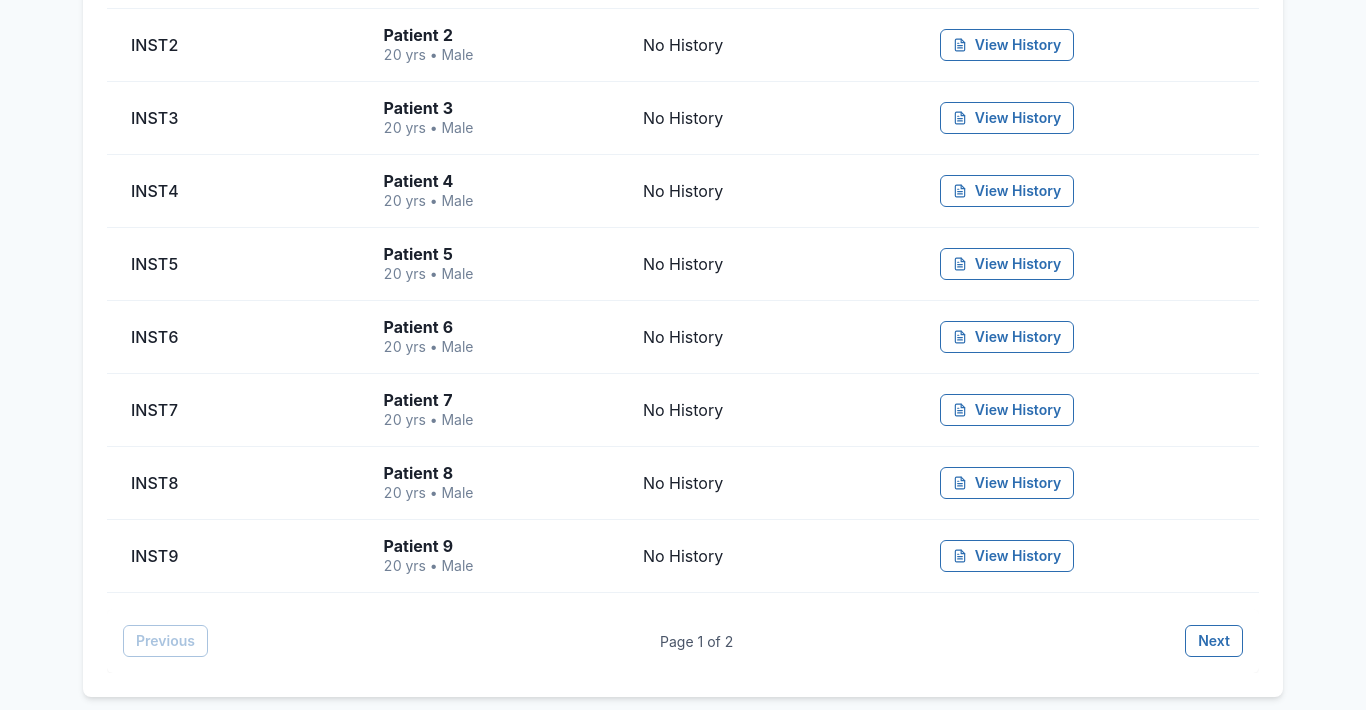
Scenario: AllPatients Component › handles pagination
(page scrolled)
Expected: the text "Patient 14" is not shown
Click the button "Next": [1214, 641] box [1185,625,1243,657]
(page scrolled)
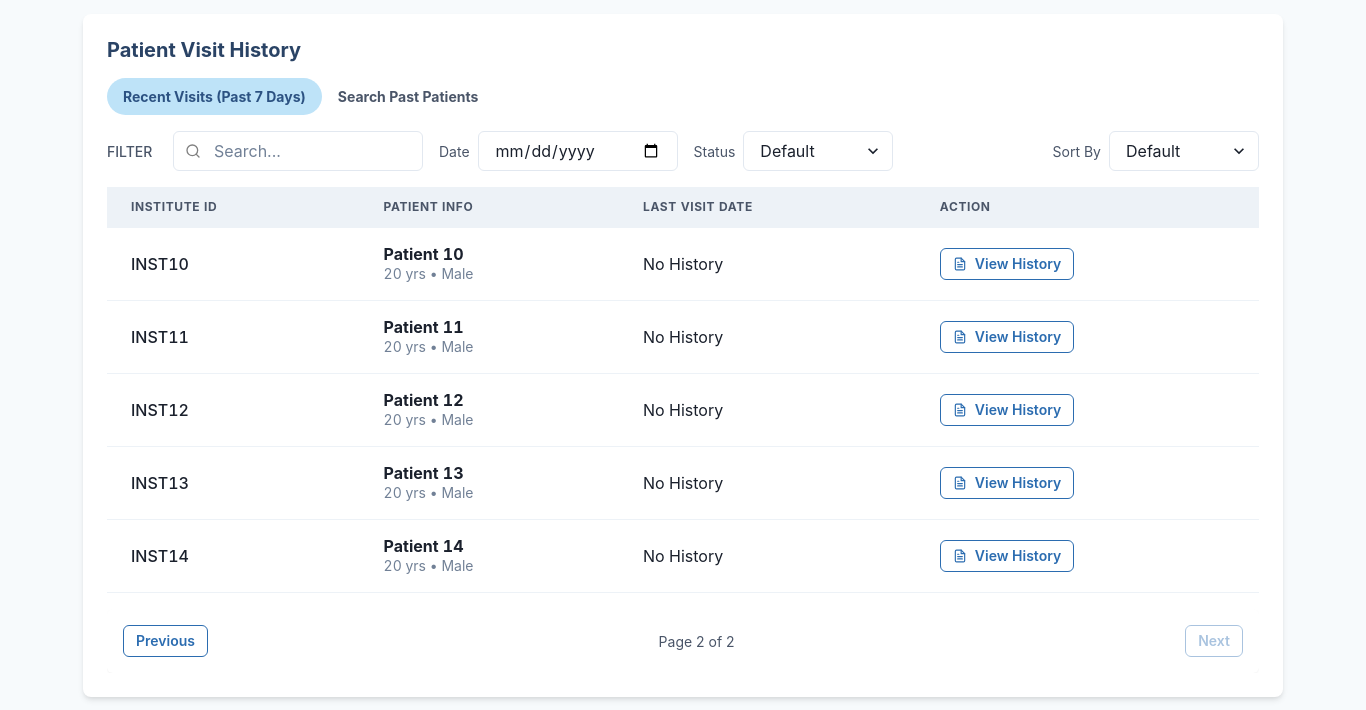
Expected: the text "Patient 14" is shown, [384,536,464,556]
Click the button "Previous": [166, 641] box [123,625,208,657]
(page scrolled)
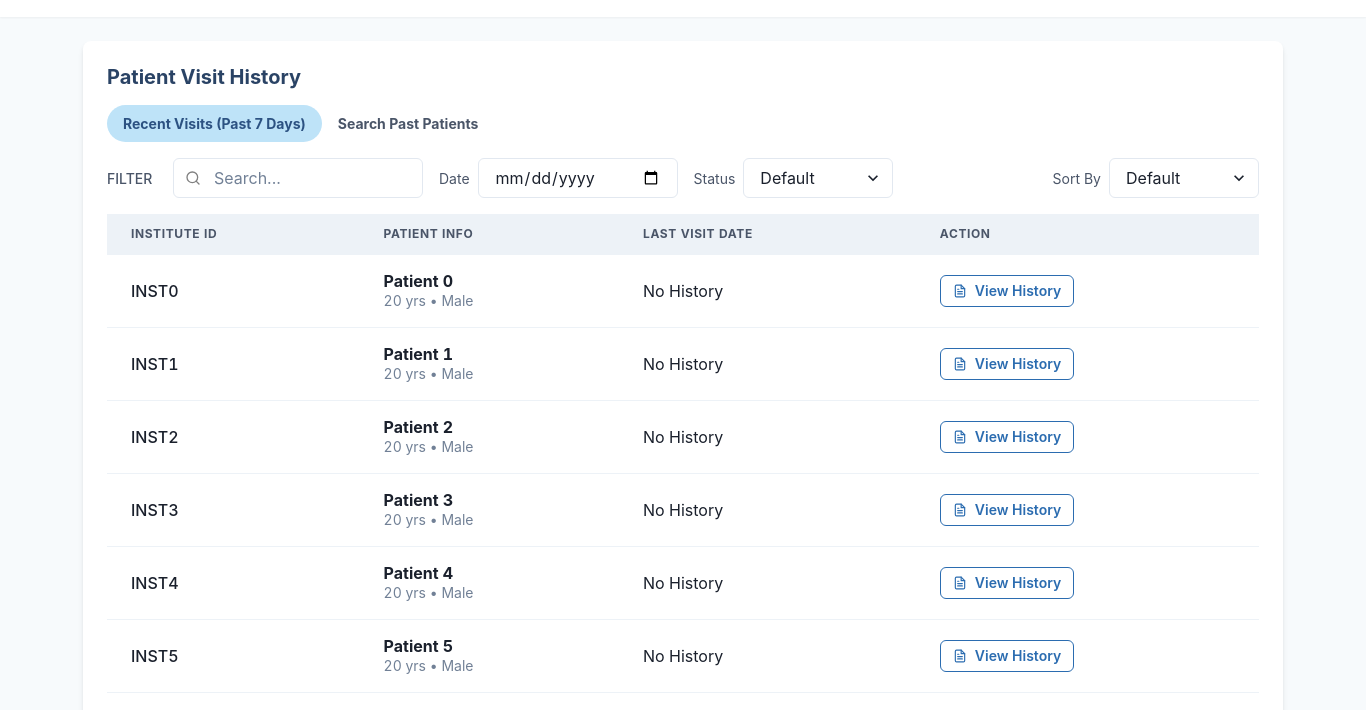
Expected: the text "Patient 0" is shown, [384,271,453,291]
